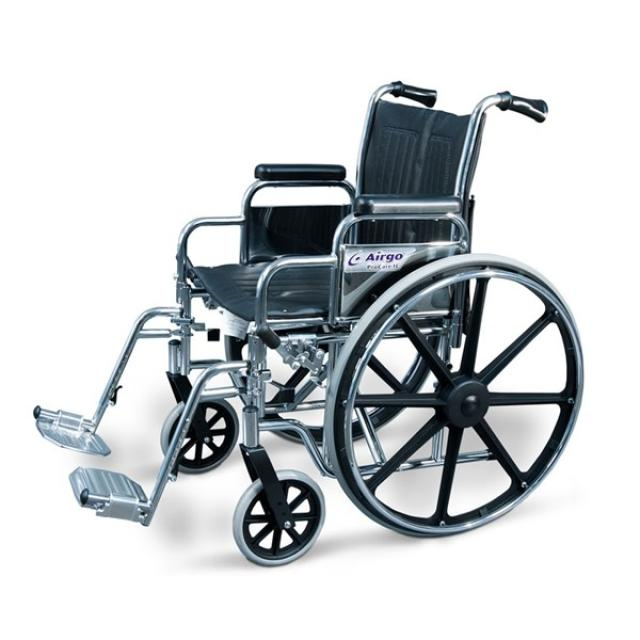wheelchairs: (15, 73, 591, 576)
